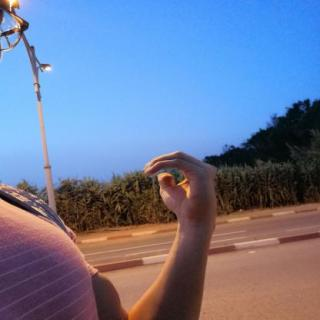JEEM: (135, 146, 232, 227)
